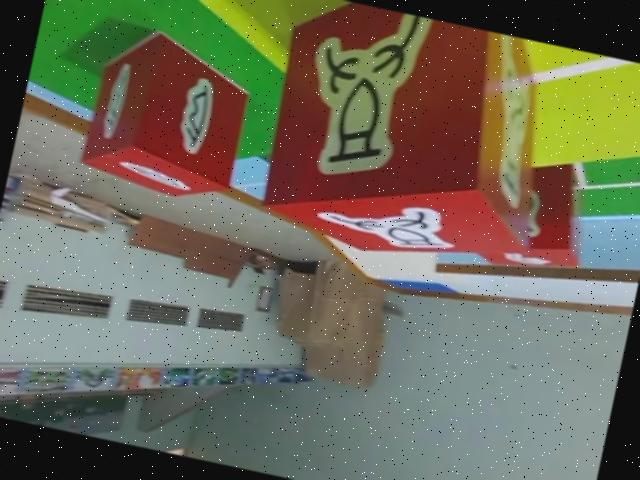R2 Real: (238, 0, 565, 286), (74, 24, 260, 207)
